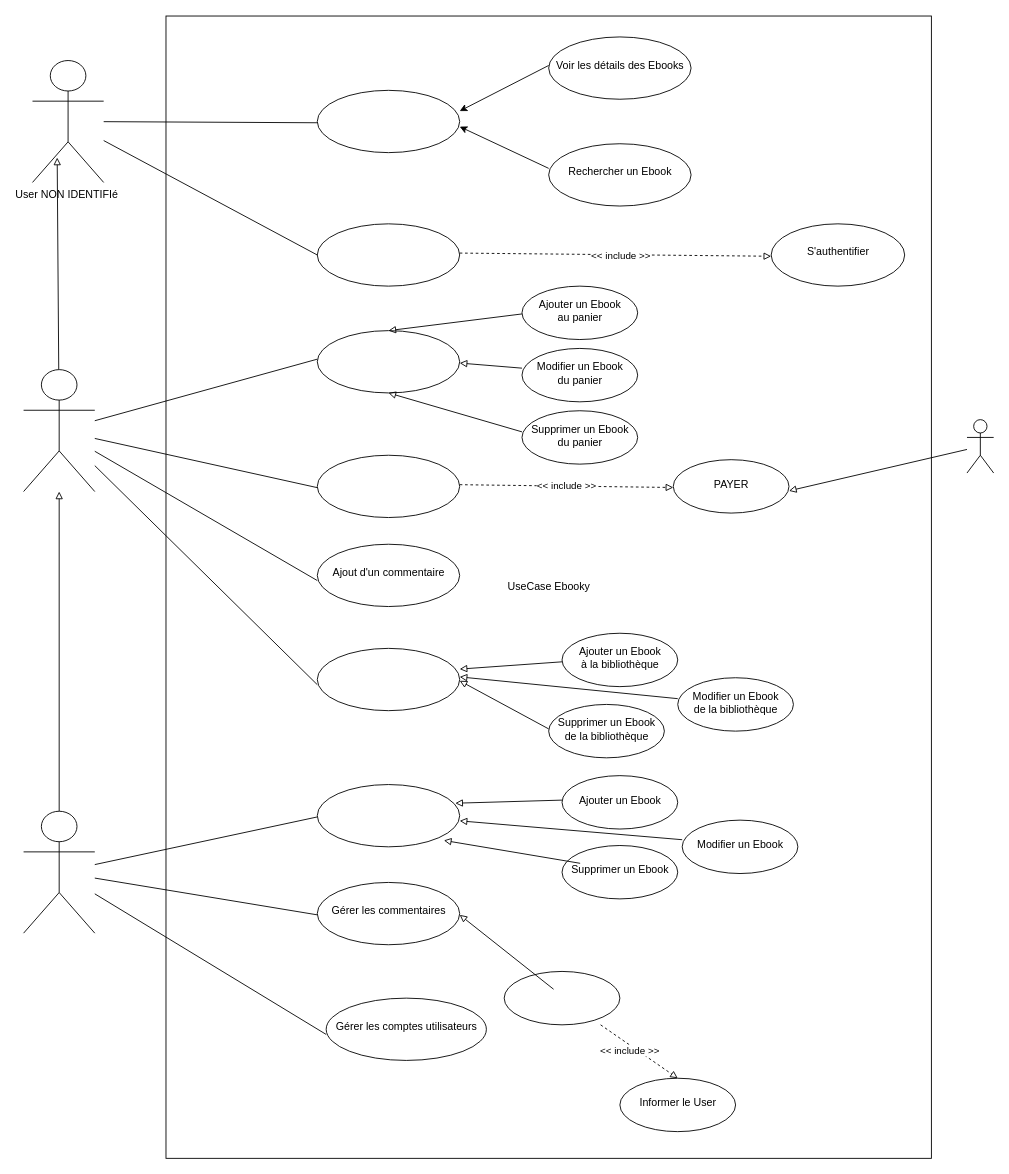
Image size: 1009x1174. Some labels were removed from this diagram. Each missing label, with the centre of its shape:
"ADMIN" belongs at (59,871).
"CME" belongs at (980,446).
"Consulter les Ebooks" belongs at (388,121).
"Créer un Compte client" belongs at (388,254).
"Gérer la bibliothèque" belongs at (388,679).
"Gérer le panier" belongs at (388,361).
"Gérer les Ebooks" belongs at (388,815).
"Passer une commande" belongs at (388,486).
"Supprimer un commentaire" belongs at (561,998).
"USER" belongs at (59,430).
